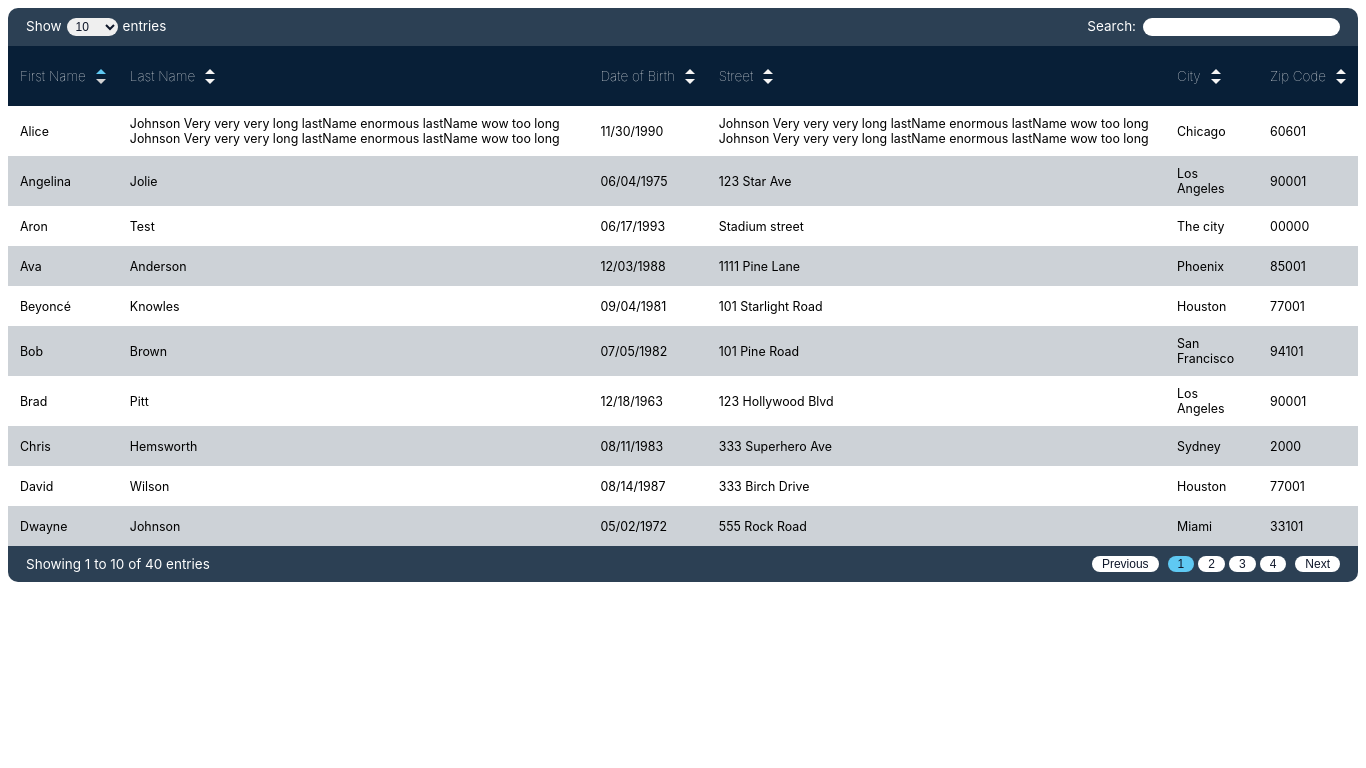
TableInfo interactions tests suite › TableInfo displays accurate information when showing up to 10 entries on page 2 without filtering
Click the button "2": click(1212, 564) [1198,556,1225,572]
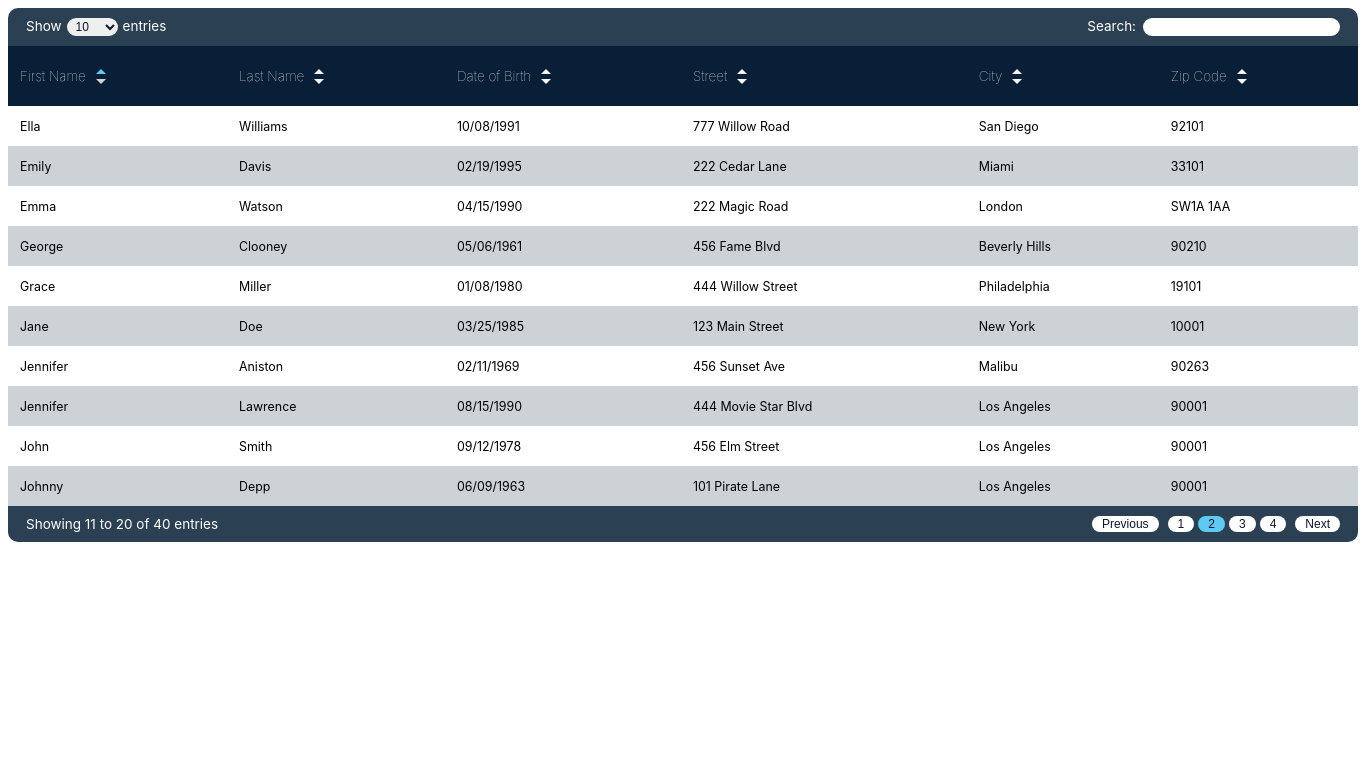
Check: the text with test id "table-info" reads "Showing 11 to 20 of 40 entries", box [26,516,218,532]
